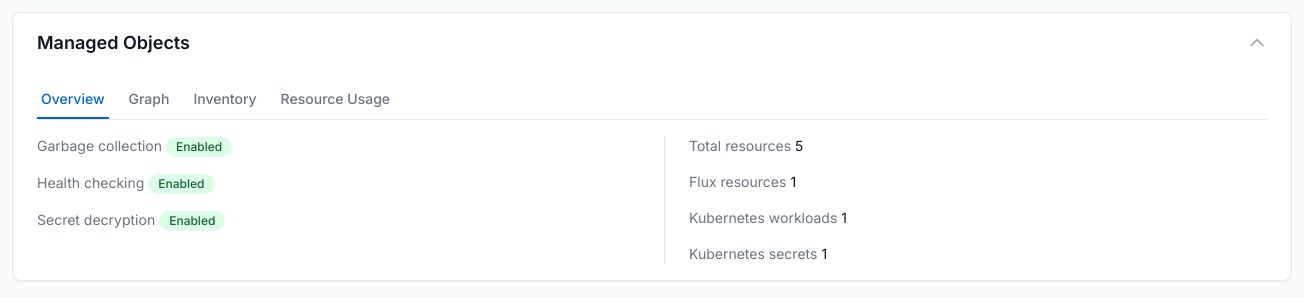
Test: ManagedObjectsPanel component › should switch back to overview tab
This screenshot has width=1304, height=298.
Switch to inventory tab
Click the button "Inventory". click: coordinates (225, 100)
box: 189,81 -> 261,119
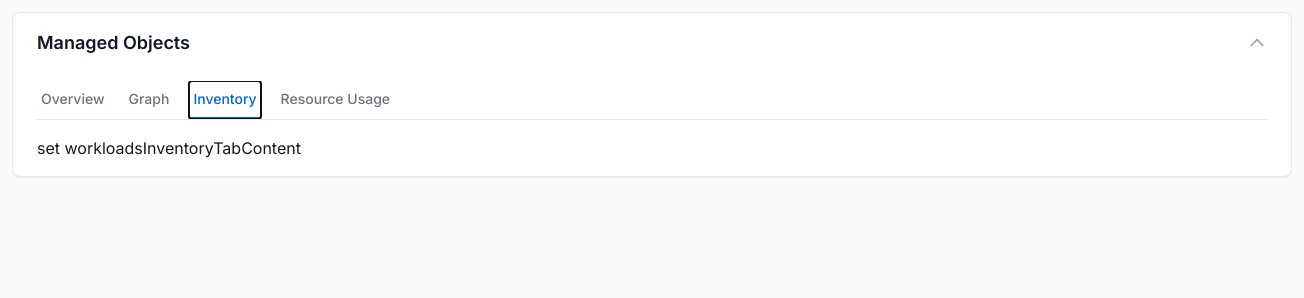
Check: the element with test id "inventory-tab-content" is shown, box 37,136 -> 301,160
Switch back to overview
Click the text "Overview". click: coordinates (73, 98)
box: 41,90 -> 104,107
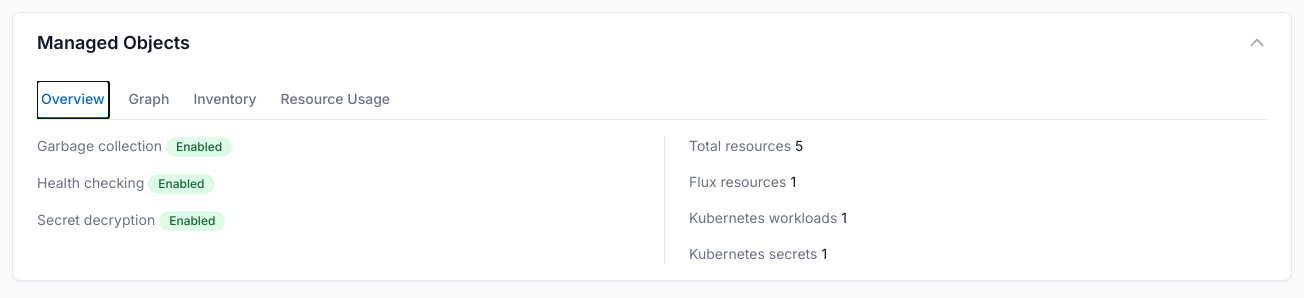
Check: the text "Garbage collection" is shown, box 37,137 -> 162,154
Check: the element with test id "inventory-tab-content" is gone
